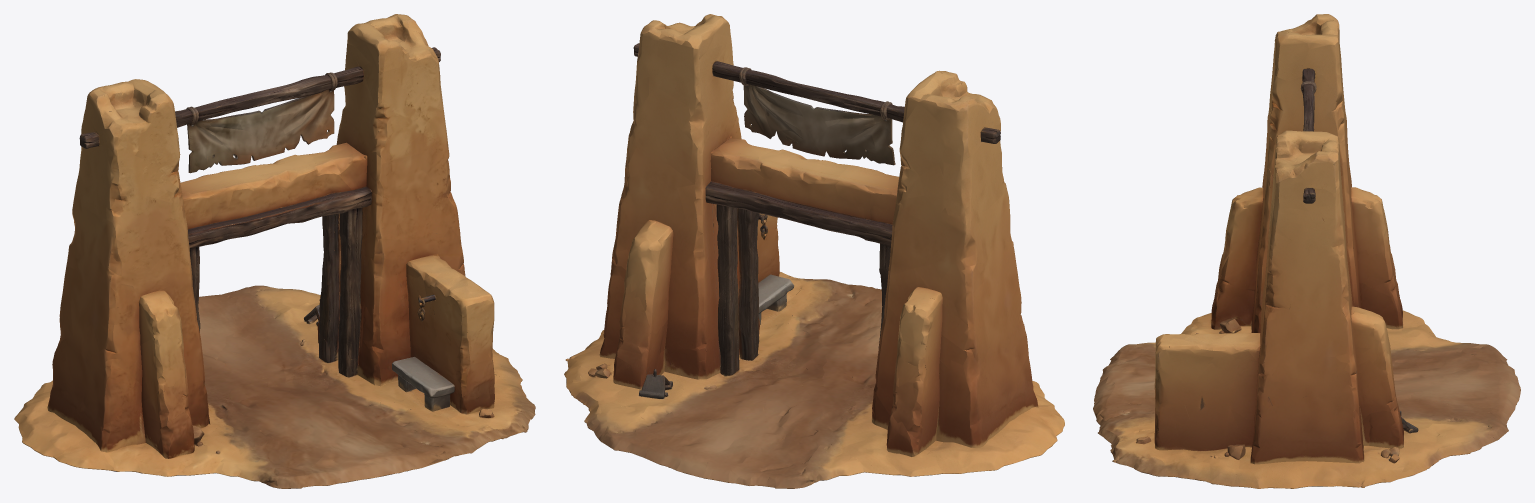
The model's file is gate-hero.glb.
3 renders of one model, left to right at view 1: azimuth 30°, elevation 25°; view 2: azimuth 150°, elevation 25°; view 3: azimuth 270°, elevation 25°, orthographic. The views are drawn at different scales.
Parts seen in each view (by area): view 1: mesh_node; view 2: mesh_node; view 3: mesh_node.
Boxes of the visible parts, x1,y1,x2,y2 form: mesh_node: (14, 14, 535, 488); mesh_node: (564, 14, 1064, 488); mesh_node: (1093, 14, 1520, 488).
Size of the model in its own units: 1.9 by 1.35 by 1.7.
Materials: 1 (1 with a texture image).
